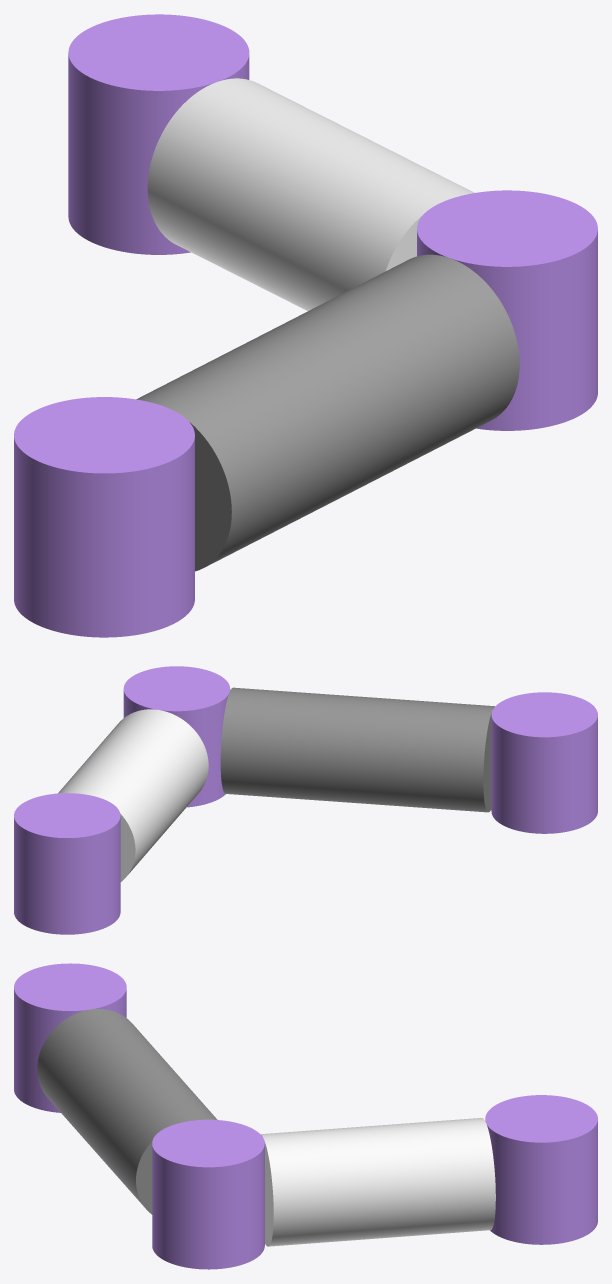
File: robot-CZQv4-WA.glb
3 renders of one model, top to bottom at view 1: azimuth 30°, elevation 25°; view 2: azimuth 150°, elevation 25°; view 3: azimuth 270°, elevation 25°, orthographic. The views are drawn at different scales.
Visible parts, largest first — view 1: robot_arm v3_robot_arm v3_Body4, robot_arm v3_robot_arm v3_Body6, robot_arm v3_robot_arm v3_Body3, robot_arm v3_robot_arm v3_Body8, robot_arm v3_robot_arm v3_Body5; view 2: robot_arm v3_robot_arm v3_Body4, robot_arm v3_robot_arm v3_Body3, robot_arm v3_robot_arm v3_Body8, robot_arm v3_robot_arm v3_Body6, robot_arm v3_robot_arm v3_Body5; view 3: robot_arm v3_robot_arm v3_Body6, robot_arm v3_robot_arm v3_Body4, robot_arm v3_robot_arm v3_Body5, robot_arm v3_robot_arm v3_Body8, robot_arm v3_robot_arm v3_Body3.
Boxes of the visible parts, bbox=[...] form: robot_arm v3_robot_arm v3_Body4: bbox=[136, 254, 519, 571]; robot_arm v3_robot_arm v3_Body6: bbox=[147, 78, 474, 310]; robot_arm v3_robot_arm v3_Body3: bbox=[14, 397, 194, 637]; robot_arm v3_robot_arm v3_Body8: bbox=[68, 14, 249, 254]; robot_arm v3_robot_arm v3_Body5: bbox=[417, 190, 597, 430]; robot_arm v3_robot_arm v3_Body4: bbox=[220, 687, 494, 812]; robot_arm v3_robot_arm v3_Body3: bbox=[491, 692, 597, 833]; robot_arm v3_robot_arm v3_Body8: bbox=[14, 793, 120, 934]; robot_arm v3_robot_arm v3_Body6: bbox=[58, 709, 208, 881]; robot_arm v3_robot_arm v3_Body5: bbox=[123, 666, 230, 807]; robot_arm v3_robot_arm v3_Body6: bbox=[261, 1118, 495, 1246]; robot_arm v3_robot_arm v3_Body4: bbox=[37, 1009, 217, 1214]; robot_arm v3_robot_arm v3_Body5: bbox=[152, 1119, 264, 1269]; robot_arm v3_robot_arm v3_Body8: bbox=[485, 1095, 597, 1244]; robot_arm v3_robot_arm v3_Body3: bbox=[14, 963, 126, 1112].
Size of the model in its own units: 4.28 by 1 by 5.18.
